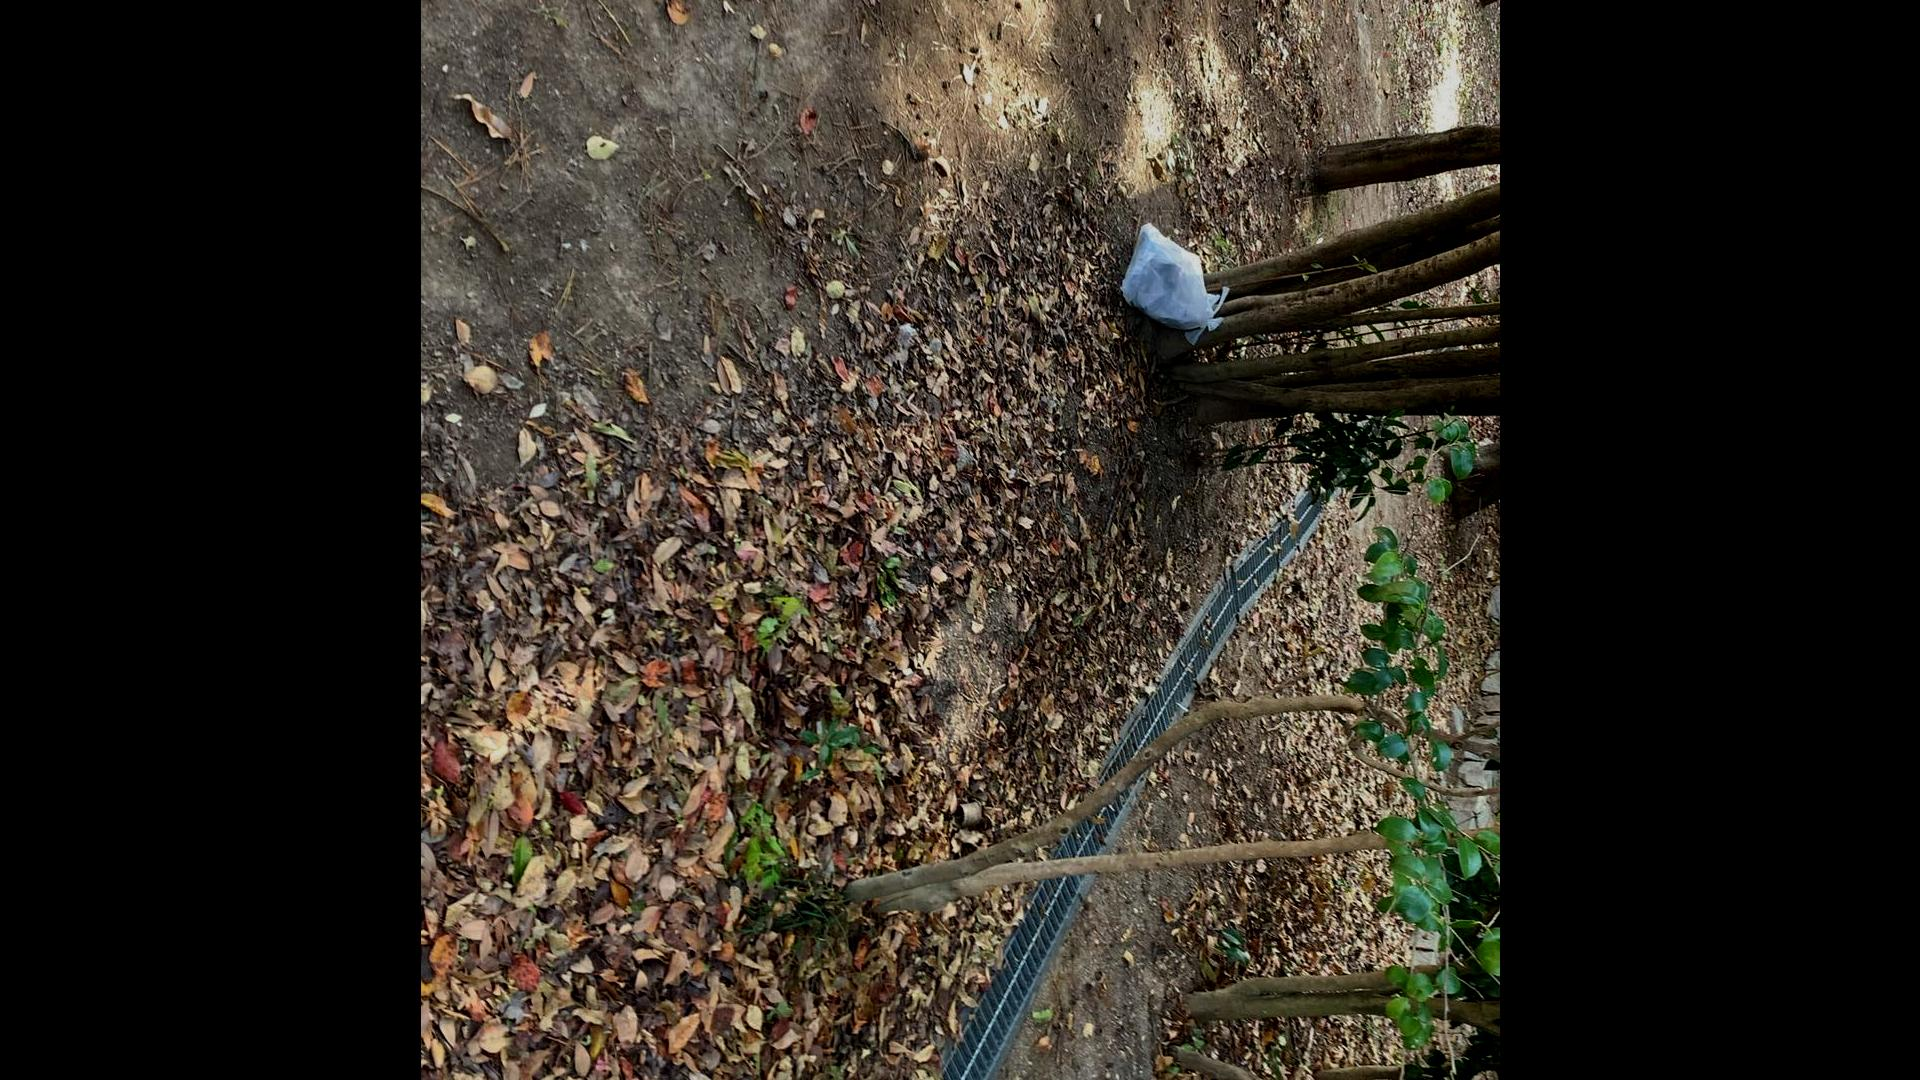white_bag: (1117, 207, 1237, 344)
